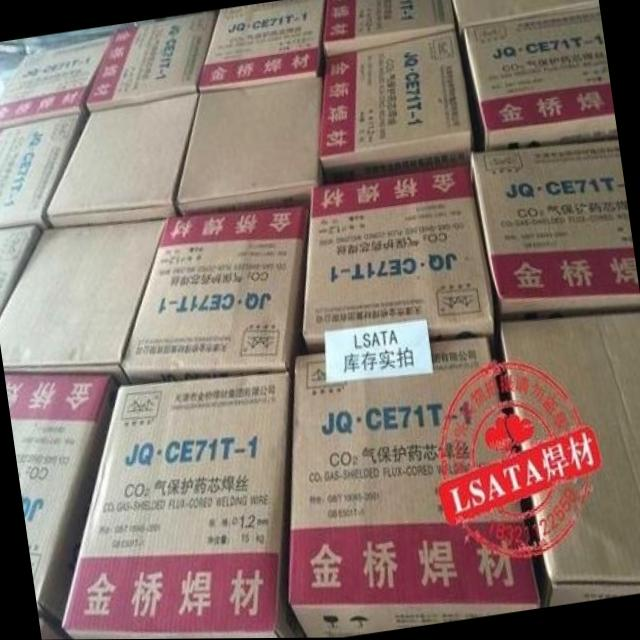box: (288, 336, 541, 638), (61, 374, 306, 640), (493, 313, 640, 607), (300, 163, 497, 352), (121, 206, 309, 385), (470, 139, 640, 319), (4, 374, 116, 629), (0, 219, 166, 385), (320, 30, 471, 182), (459, 7, 617, 152), (175, 73, 328, 216), (45, 93, 200, 227), (87, 12, 216, 112), (198, 0, 326, 92), (0, 114, 88, 232), (0, 36, 113, 127), (323, 0, 455, 56), (453, 0, 599, 33), (0, 225, 41, 316)
